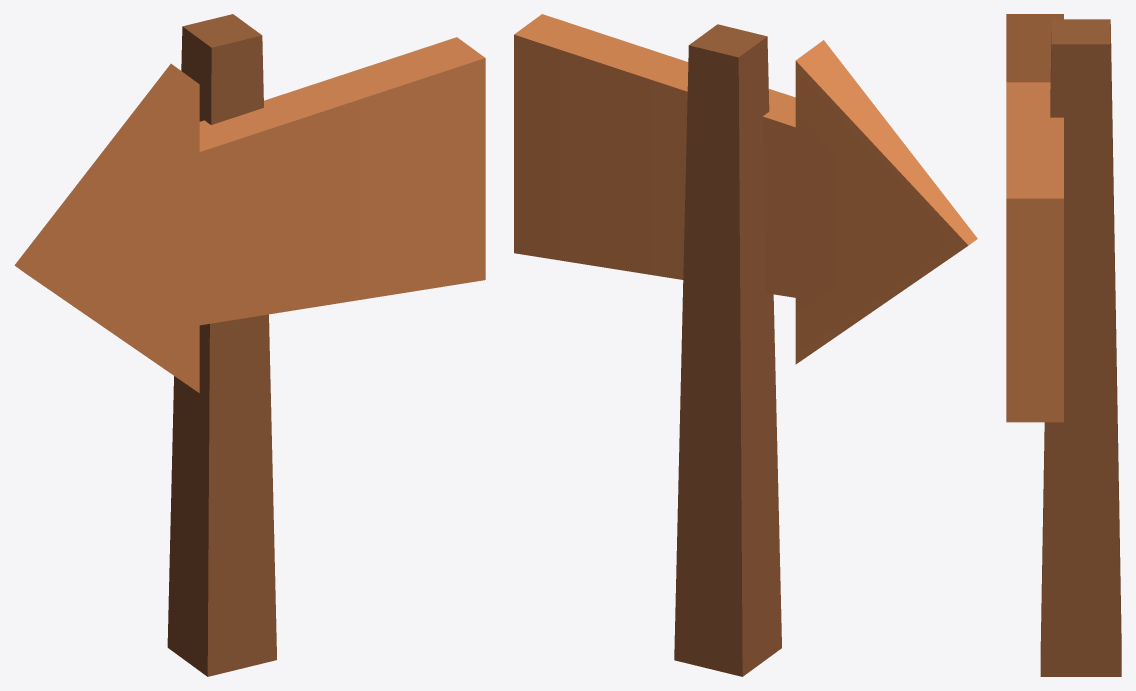
File: arrow.dae
3 renders of one model, left to right at view 1: azimuth 30°, elevation 25°; view 2: azimuth 150°, elevation 25°; view 3: azimuth 270°, elevation 25°, orthographic. The views are drawn at different scales.
Visible parts, largest first — view 1: arrow; view 2: arrow; view 3: arrow.
Boxes of the visible parts, bbox=[...] form: arrow: bbox=[14, 14, 485, 676]; arrow: bbox=[514, 14, 977, 676]; arrow: bbox=[1006, 14, 1121, 676].
Size of the model in its own units: 0.4557 by 0.6 by 0.0998.
